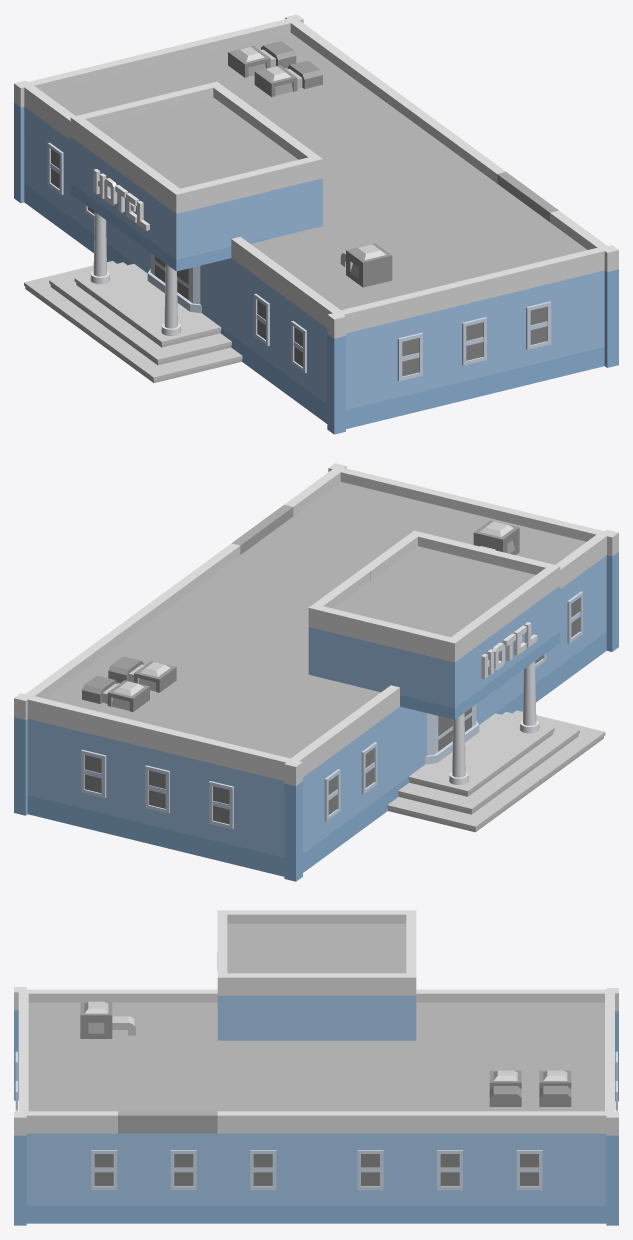
Rendered from hotel.fbx.
The picture shows the model from 3 angles, top to bottom: view 1: azimuth 30°, elevation 25°; view 2: azimuth 150°, elevation 25°; view 3: azimuth 270°, elevation 25°; orthographic projection. The views are drawn at different scales.
Parts seen in each view (by area): view 1: polySurface1875; view 2: polySurface1875; view 3: polySurface1875.
Boxes of the visible parts, x1=… form: polySurface1875: x1=14, y1=14, x2=618, y2=434; polySurface1875: x1=14, y1=463, x2=618, y2=881; polySurface1875: x1=14, y1=910, x2=618, y2=1225.
Bounding box in the file's own units: 763 × 342 × 1156.
